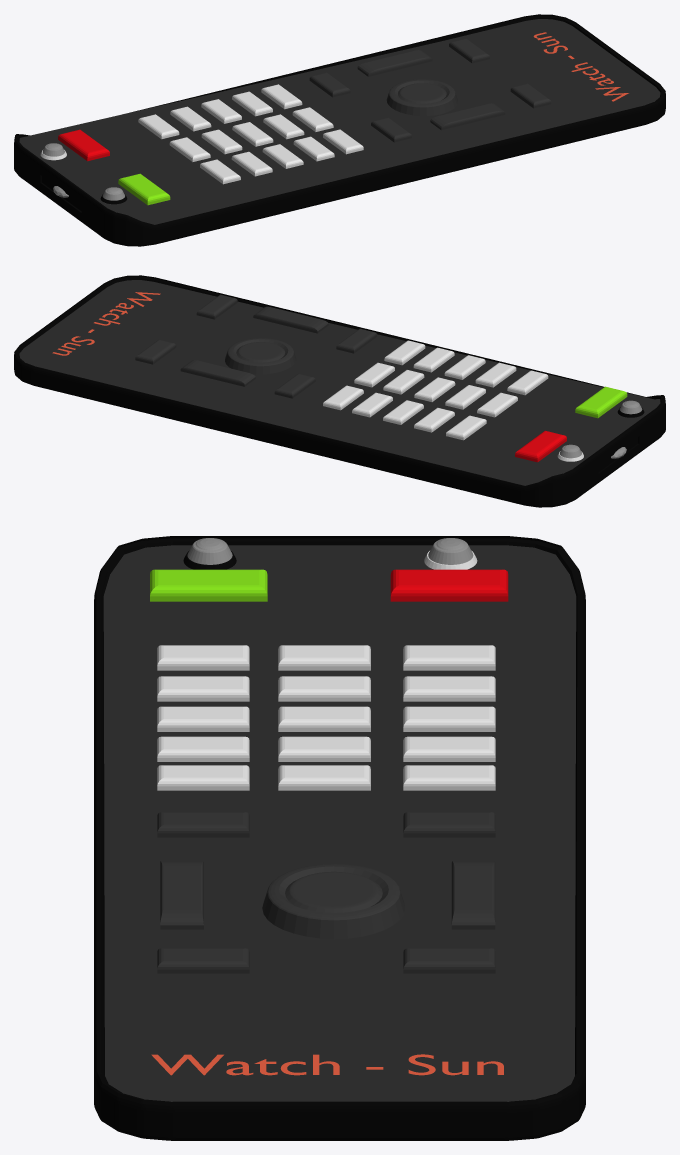
Rendered from remote.glb.
3 renders of one model, top to bottom at view 1: azimuth 30°, elevation 25°; view 2: azimuth 150°, elevation 25°; view 3: azimuth 270°, elevation 25°, orthographic. The views are drawn at different scales.
Visible parts, largest first — view 1: Cube.002, Cube.001, Cylinder, Cube.024, Cube.025, Cube.003, Cube.004, txt, Cube.008, Cube.009, Cube.011, Cube.014 (+15 smaller); view 2: Cube.002, Cube.001, Cylinder, Cube.024, Cube.025, Cube.004, Cube.003, txt, Cube.014, Cube.019, Cube.021, Cube.022 (+15 smaller); view 3: Cube.002, Cube.001, Cylinder, Cube.004, Cube.003, Cube.025, Cube.024, Cube.005, Cube.006, Cube.007, Cube.008, Cube.009 (+17 smaller).
Boxes of the visible parts, x1,y1,x2,y2 form: Cube.002: [19, 19, 660, 224]; Cube.001: [14, 14, 665, 246]; Cylinder: [386, 79, 457, 115]; Cube.024: [430, 103, 505, 130]; Cube.025: [357, 50, 432, 76]; Cube.003: [118, 173, 170, 205]; Cube.004: [58, 129, 109, 161]; txt: [533, 32, 628, 101]; Cube.008: [201, 129, 242, 154]; Cube.009: [170, 106, 211, 131]; Cube.011: [262, 144, 303, 168]; Cube.014: [263, 114, 304, 139]; Cube.002: [19, 280, 660, 485]; Cube.001: [14, 275, 665, 507]; Cylinder: [225, 338, 296, 374]; Cube.024: [253, 306, 328, 333]; Cube.025: [180, 360, 255, 386]; Cube.004: [515, 430, 566, 462]; Cube.003: [575, 386, 627, 418]; txt: [52, 292, 160, 355]; Cube.014: [383, 370, 424, 394]; Cube.019: [384, 340, 425, 365]; Cube.021: [274, 373, 315, 398]; Cube.022: [135, 339, 176, 364]; Cube.002: [103, 545, 576, 1101]; Cube.001: [94, 536, 585, 1140]; Cylinder: [262, 863, 405, 938]; Cube.004: [390, 569, 508, 601]; Cube.003: [150, 569, 267, 601]; Cube.025: [451, 861, 495, 929]; Cube.024: [160, 861, 203, 929]; Cube.005: [157, 645, 249, 670]; Cube.006: [403, 645, 495, 670]; Cube.007: [278, 645, 370, 670]; Cube.008: [278, 676, 370, 701]; Cube.009: [403, 676, 495, 701].
Bounding box in the file's own units: 5.28 × 0.3412 × 2.
